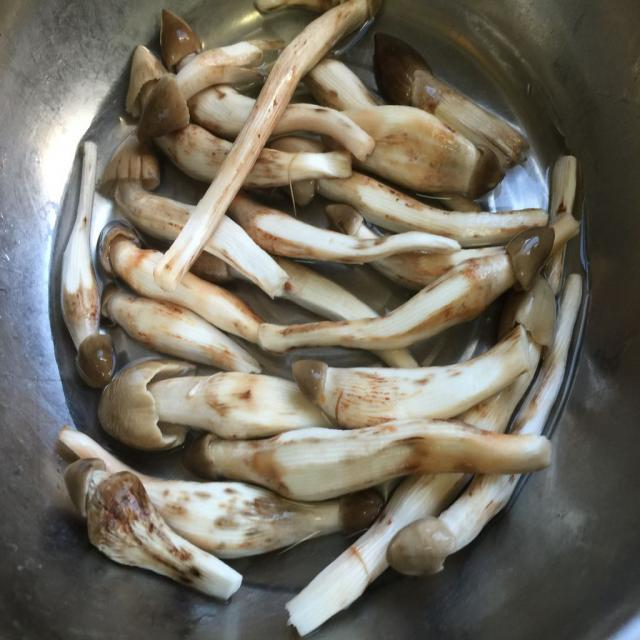Collybia albuminosa: (98, 138, 293, 299), (314, 62, 496, 203), (62, 463, 238, 603), (284, 340, 538, 427), (99, 218, 264, 346), (372, 35, 525, 168), (99, 356, 312, 447), (396, 220, 556, 335), (56, 140, 116, 374), (140, 30, 286, 118), (385, 475, 520, 569)
